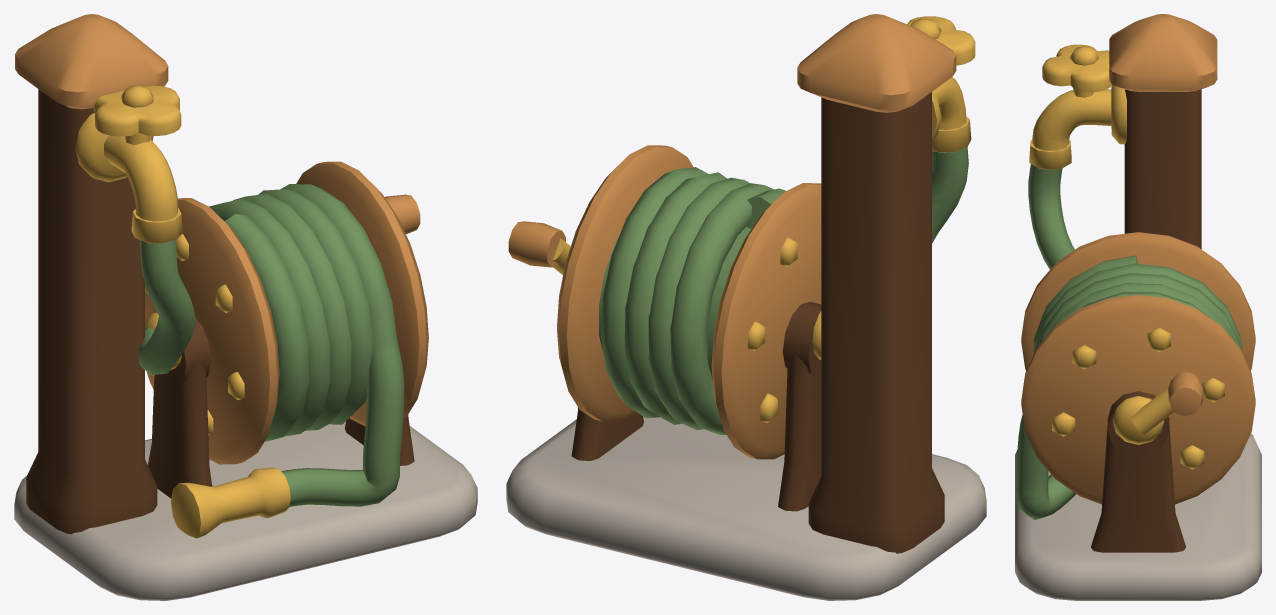
The model's file is ShopHoseReel.fbx.
The picture shows the model from 3 angles, left to right: view 1: azimuth 30°, elevation 25°; view 2: azimuth 150°, elevation 25°; view 3: azimuth 270°, elevation 25°; orthographic projection. The views are drawn at different scales.
Visible parts, largest first — view 1: ShopHoseReel; view 2: ShopHoseReel; view 3: ShopHoseReel.
Boxes of the visible parts, x1,y1,x2,y2 form: ShopHoseReel: (14, 14, 477, 600); ShopHoseReel: (506, 14, 986, 600); ShopHoseReel: (1015, 14, 1261, 600).
Bounding box in the file's own units: 0.6285 × 0.8 × 0.4.
